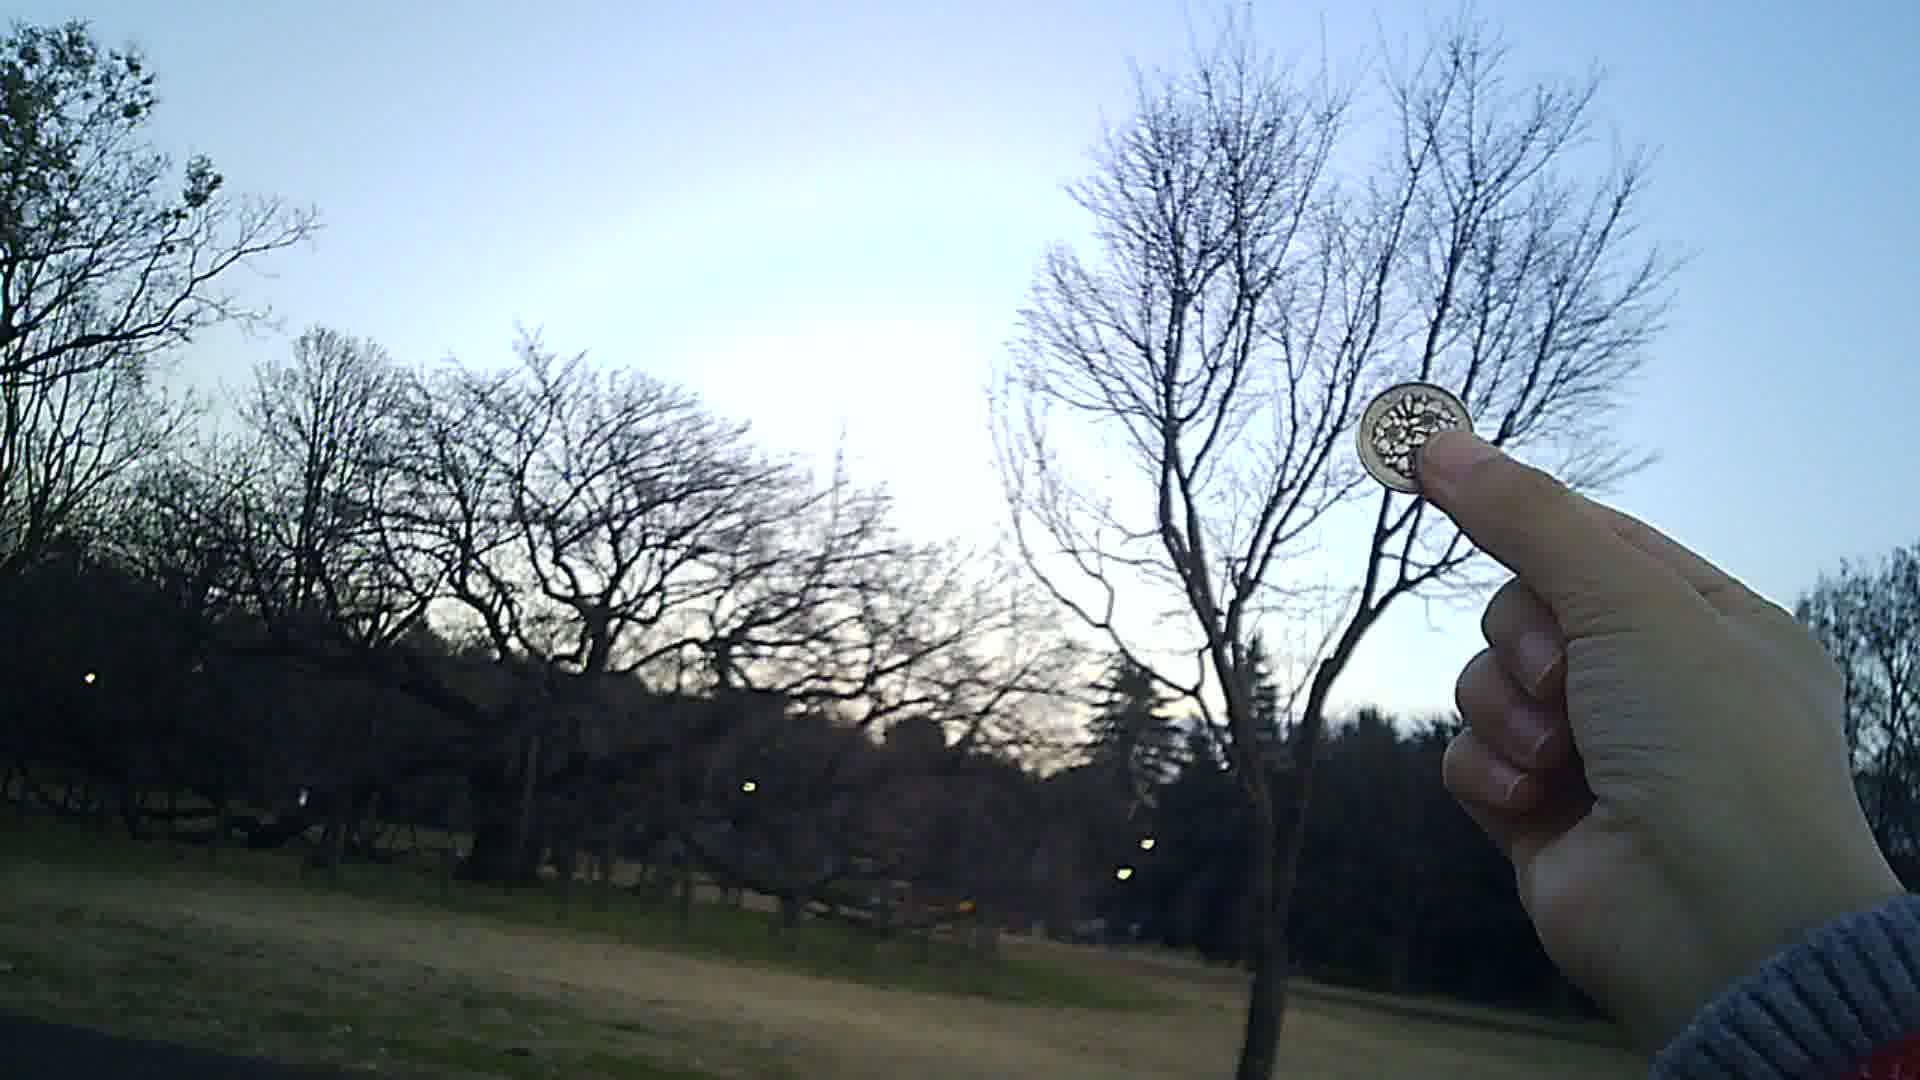100 Yen: (1354, 376, 1477, 497)
